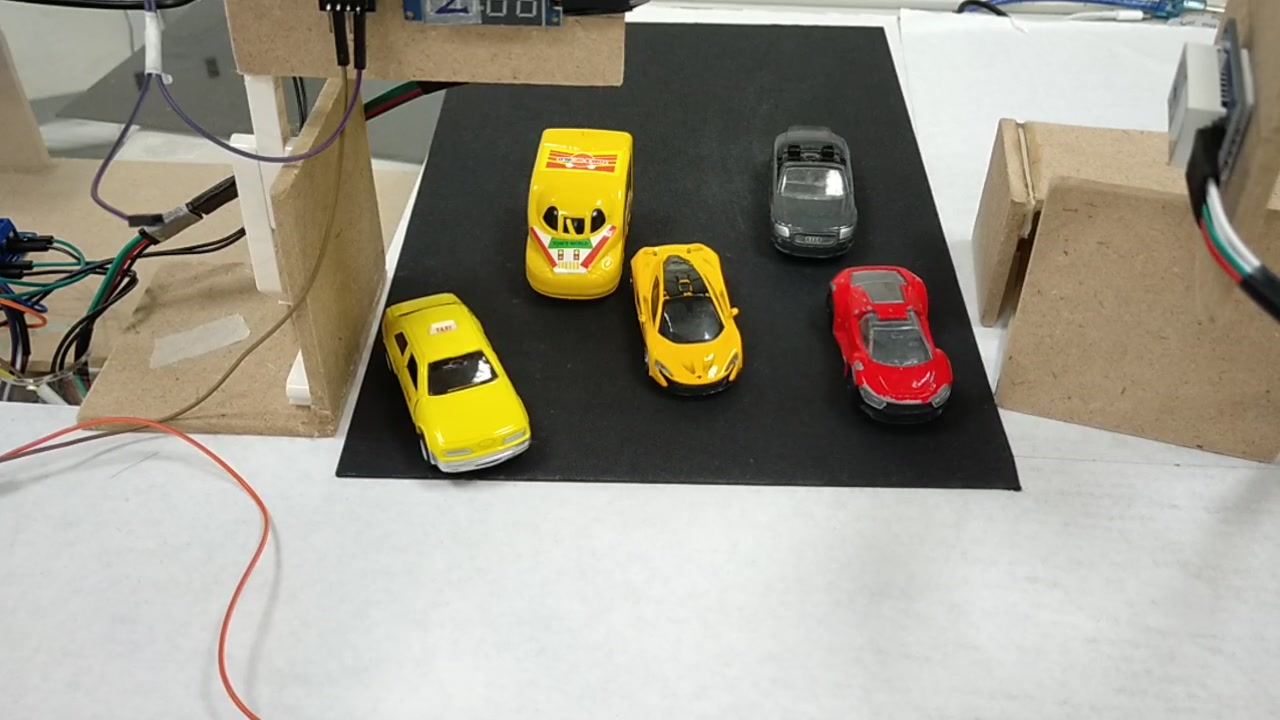car: (375, 302, 534, 479), (826, 266, 954, 418), (628, 248, 744, 398), (766, 129, 857, 255)
